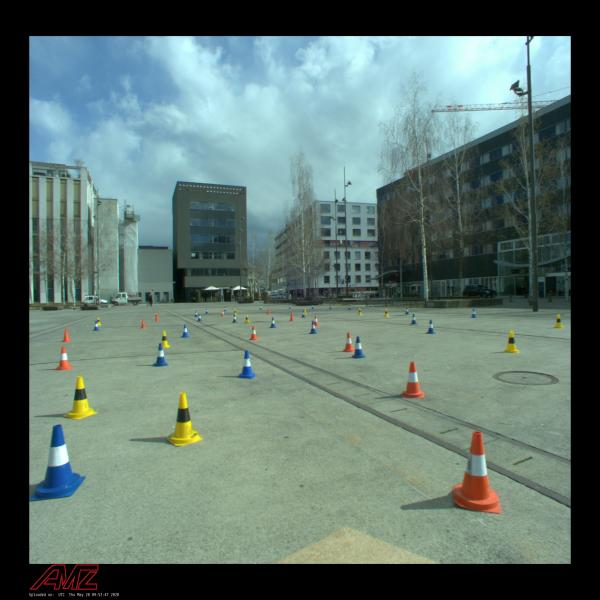blue_cone: (30, 424, 86, 502), (237, 350, 257, 379), (152, 343, 169, 367), (351, 336, 366, 359), (180, 324, 190, 338), (426, 320, 436, 334), (309, 321, 318, 334), (410, 314, 418, 324), (93, 321, 100, 331), (270, 317, 276, 328), (471, 309, 477, 318), (232, 314, 237, 323), (301, 310, 306, 318), (194, 311, 199, 317), (198, 314, 202, 321), (205, 308, 209, 314), (405, 308, 409, 314), (289, 304, 292, 309), (329, 305, 332, 310), (348, 305, 351, 310), (224, 307, 227, 311), (260, 305, 262, 310), (312, 304, 314, 309)
orange_cone: (452, 430, 502, 514), (402, 361, 425, 398), (54, 346, 74, 371), (342, 332, 356, 352), (61, 328, 72, 342), (250, 326, 258, 340), (312, 315, 320, 326), (140, 318, 147, 328), (154, 314, 160, 321), (290, 312, 294, 321), (221, 310, 225, 317), (266, 308, 270, 314)
yellow_cone: (166, 392, 204, 447), (63, 376, 98, 419), (503, 330, 519, 353), (158, 331, 170, 348), (554, 314, 564, 329), (244, 314, 250, 324), (96, 318, 102, 326), (154, 312, 160, 320), (384, 309, 389, 317), (233, 309, 238, 315), (303, 309, 308, 315), (358, 308, 362, 315)
